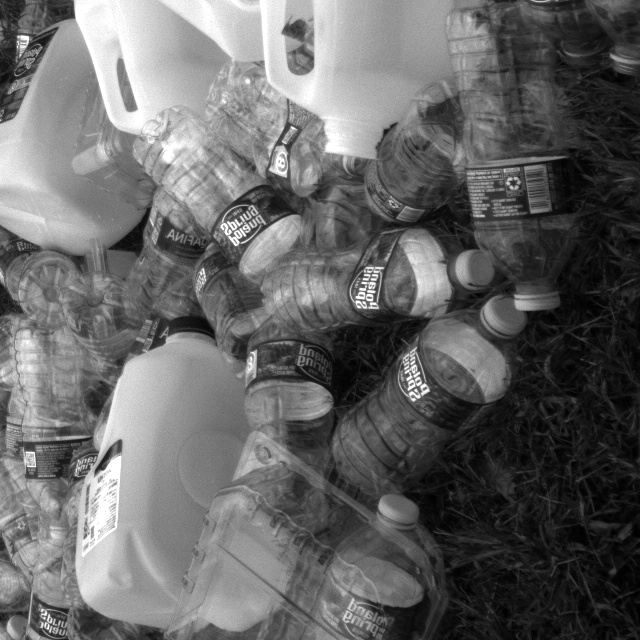bottle: (409, 0, 603, 351), (305, 264, 522, 513), (229, 205, 488, 349), (120, 111, 308, 284), (228, 294, 345, 558), (188, 63, 377, 224), (259, 470, 424, 640), (0, 291, 91, 541), (0, 289, 89, 518), (0, 410, 69, 597)
can: (64, 311, 279, 624), (54, 0, 286, 193), (0, 0, 146, 274), (240, 0, 491, 153), (118, 0, 329, 87)
container: (147, 436, 474, 640), (51, 61, 200, 243)
